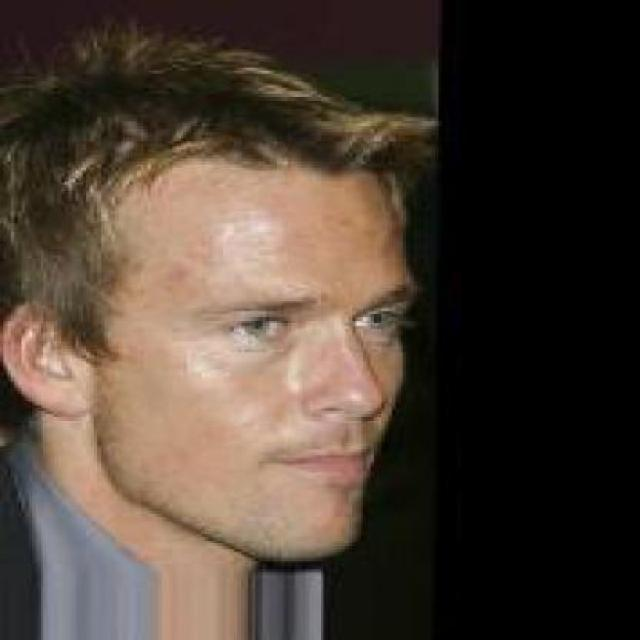closed-mouth: (266, 444, 374, 487)
